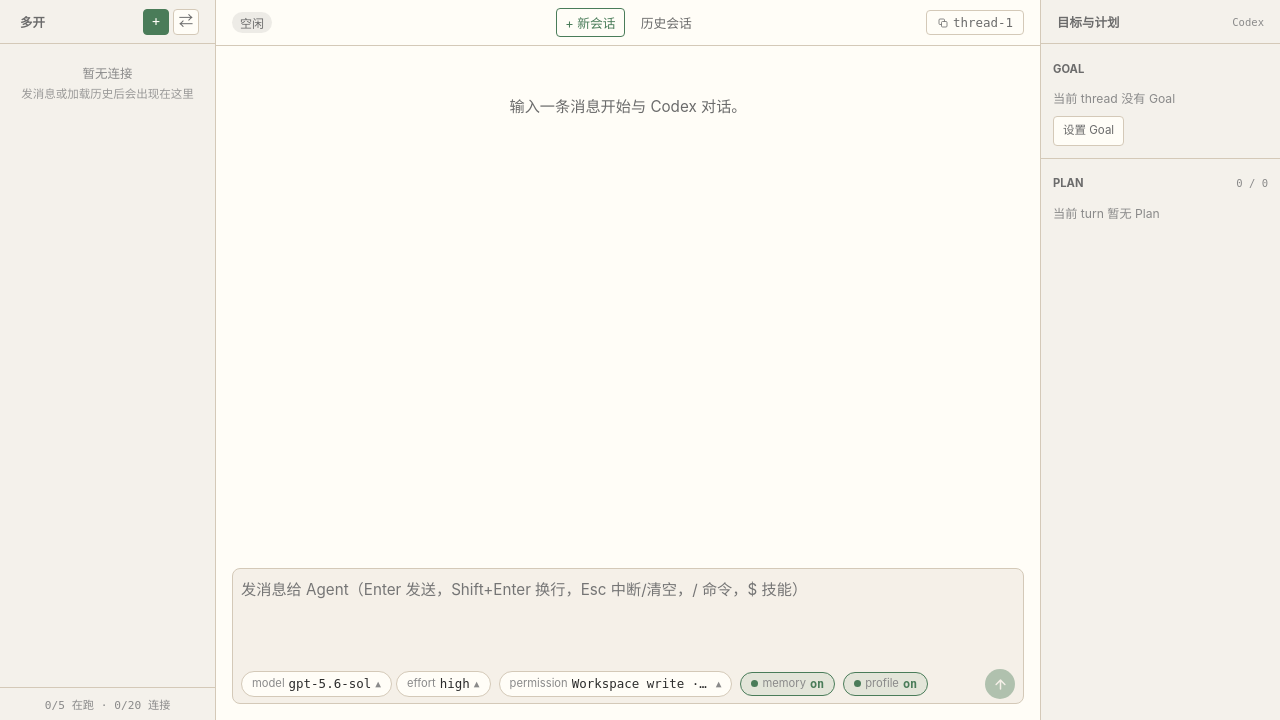
Test: SessionView › loads the Codex roster and opens /status locally
In the text box named "Agent 消息输入": (628, 617) [233,569,1023,665], type "/status"
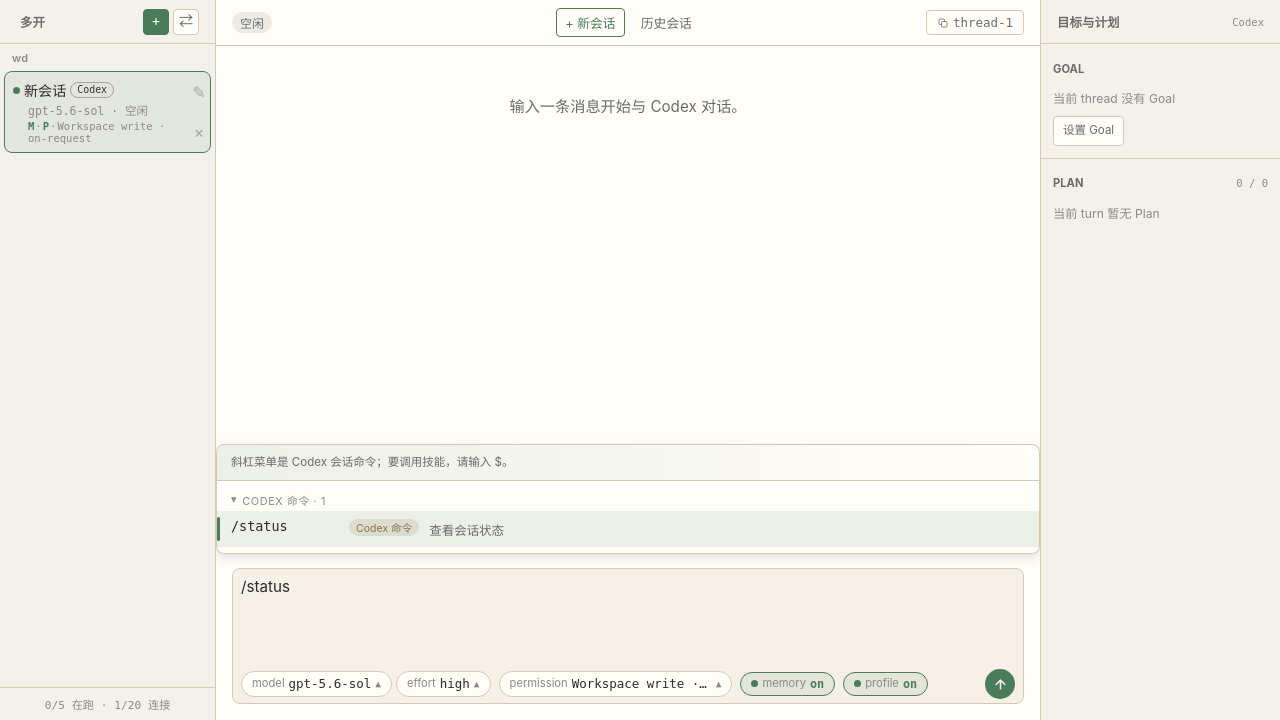
Click the option "/status Codex 命令 查看会话状态": click(263, 526) [217,511,1039,547]
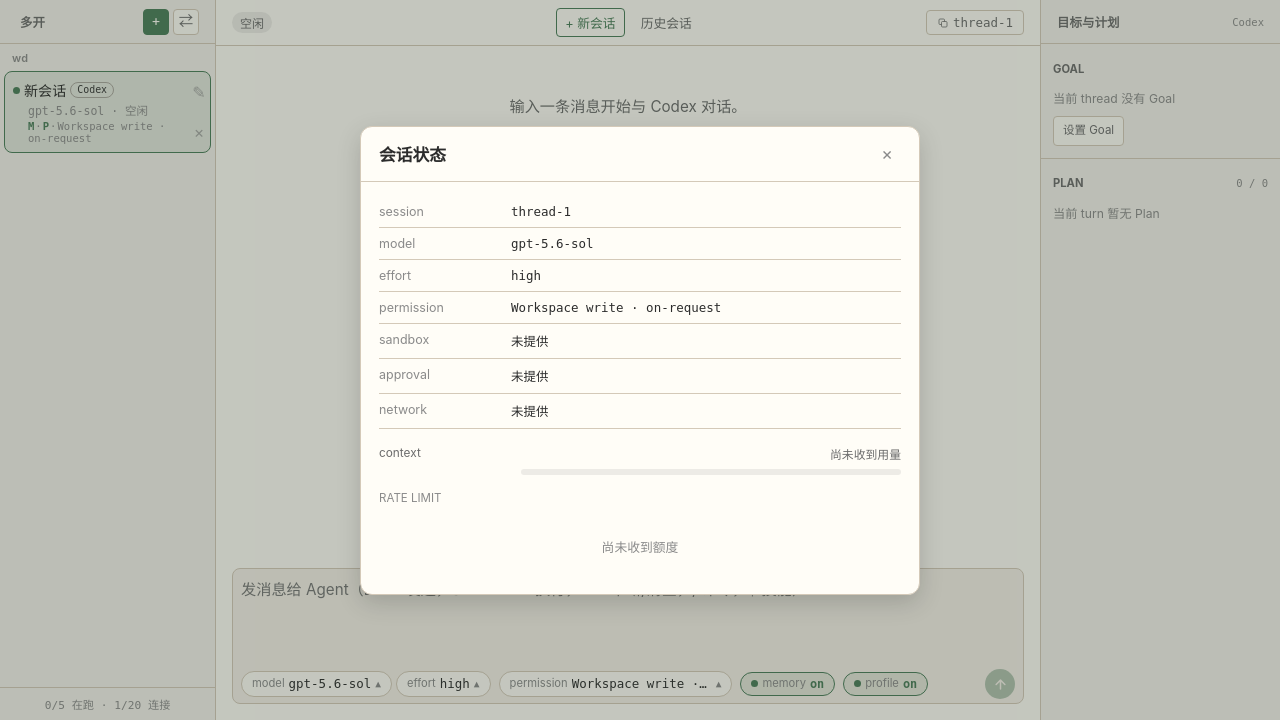
Result: the dialog named "Codex 会话状态" is shown at [360,126,920,594]
